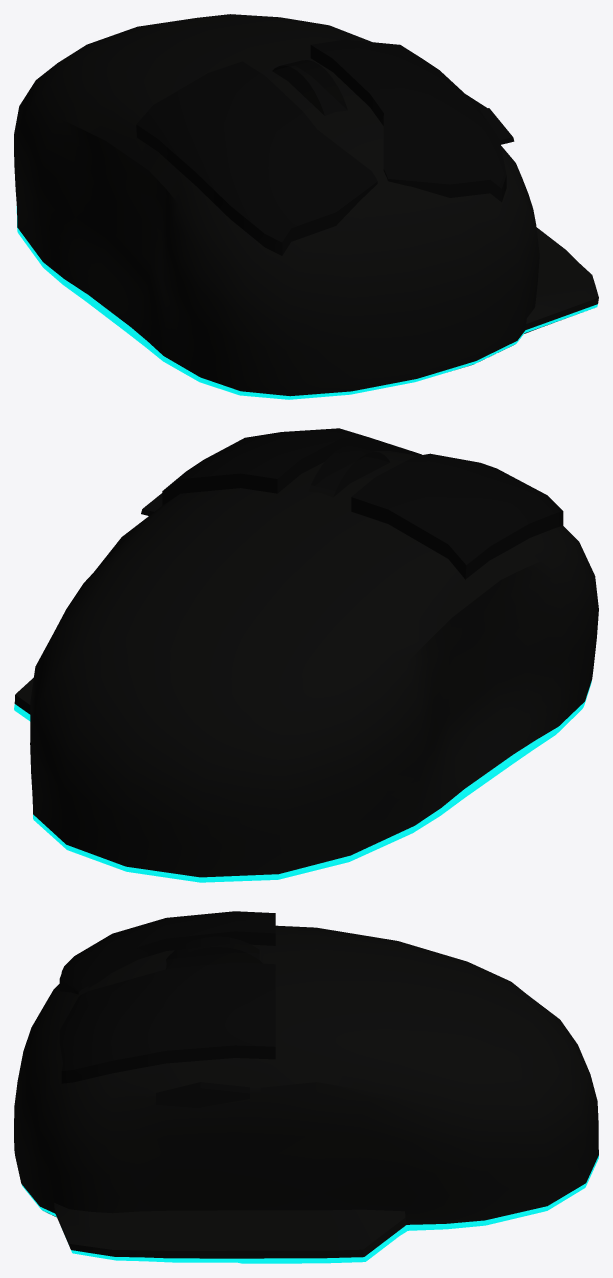
File: mouse.glb
3 renders of one model, top to bottom at view 1: azimuth 30°, elevation 25°; view 2: azimuth 150°, elevation 25°; view 3: azimuth 270°, elevation 25°, orthographic. The views are drawn at different scales.
Visible parts, largest first — view 1: Mouse 1.001_0, Mouse 1.003_2, Mouse 1.005_4, Mouse 1.002_1, Mouse 1.006_5, Mouse 1.007_6; view 2: Mouse 1.001_0, Mouse 1.003_2, Mouse 1.005_4, Mouse 1.002_1, Mouse 1.006_5; view 3: Mouse 1.001_0, Mouse 1.005_4, Mouse 1.003_2, Mouse 1.002_1, Mouse 1.006_5, Mouse 1.007_6.
Boxes of the visible parts, left/top/right/bottom form: Mouse 1.001_0: left=14, top=14, right=598, bottom=396; Mouse 1.003_2: left=136, top=61, right=377, bottom=255; Mouse 1.005_4: left=310, top=39, right=506, bottom=202; Mouse 1.002_1: left=16, top=206, right=597, bottom=399; Mouse 1.006_5: left=272, top=60, right=347, bottom=115; Mouse 1.007_6: left=466, top=94, right=514, bottom=144; Mouse 1.001_0: left=14, top=451, right=598, bottom=877; Mouse 1.003_2: left=351, top=453, right=563, bottom=578; Mouse 1.005_4: left=162, top=428, right=417, bottom=505; Mouse 1.002_1: left=14, top=680, right=591, bottom=882; Mouse 1.006_5: left=311, top=446, right=389, bottom=496; Mouse 1.001_0: left=14, top=925, right=598, bottom=1258; Mouse 1.005_4: left=59, top=962, right=275, bottom=1083; Mouse 1.003_2: left=59, top=911, right=275, bottom=994; Mouse 1.002_1: left=21, top=1155, right=598, bottom=1263; Mouse 1.006_5: left=166, top=936, right=262, bottom=969; Mouse 1.007_6: left=156, top=1082, right=249, bottom=1107.
Bounding box in the file's own units: 6.3 × 3.52 × 8.49.
